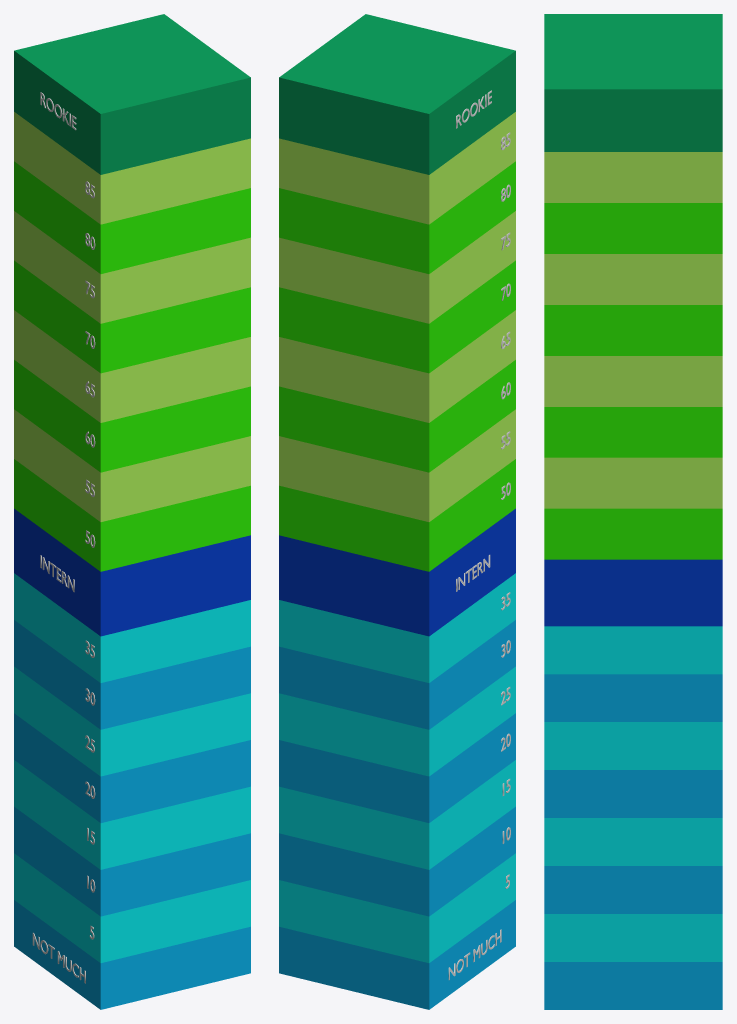
The model's file is FinishAwards.fbx.
3 renders of one model, left to right at view 1: azimuth 30°, elevation 25°; view 2: azimuth 150°, elevation 25°; view 3: azimuth 270°, elevation 25°, orthographic. The views are drawn at different scales.
Parts seen in each view (by area): view 1: Cube.006; view 2: Cube.006; view 3: Cube.006.
Part boxes in pixels (x1,y1,x2,y2): Cube.006: (14, 14, 250, 1009); Cube.006: (279, 14, 515, 1009); Cube.006: (544, 14, 722, 1009).
Bounding box in the file's own units: 53.79 × 305 × 53.57.
